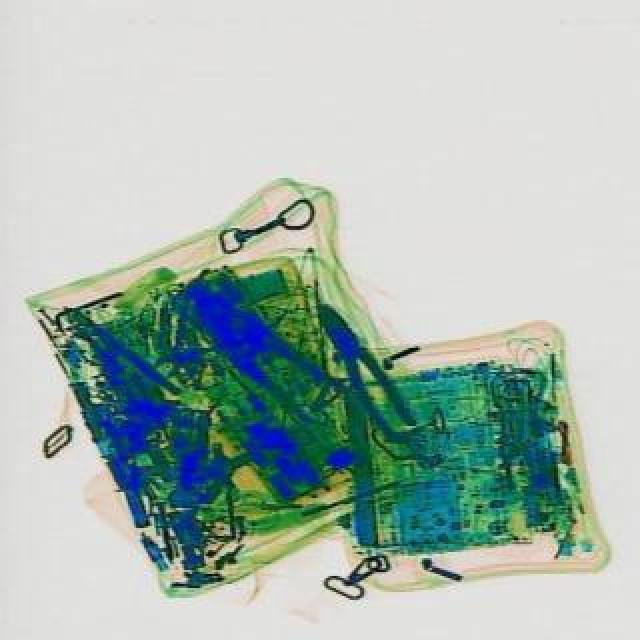wrench: (170, 272, 342, 424), (300, 296, 420, 444)
